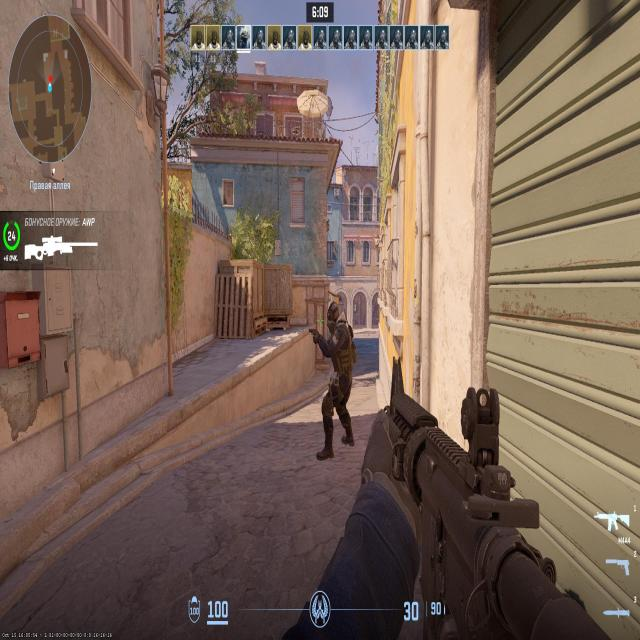CT: (325, 302, 350, 455)
CT_heat: (329, 309, 337, 328)
